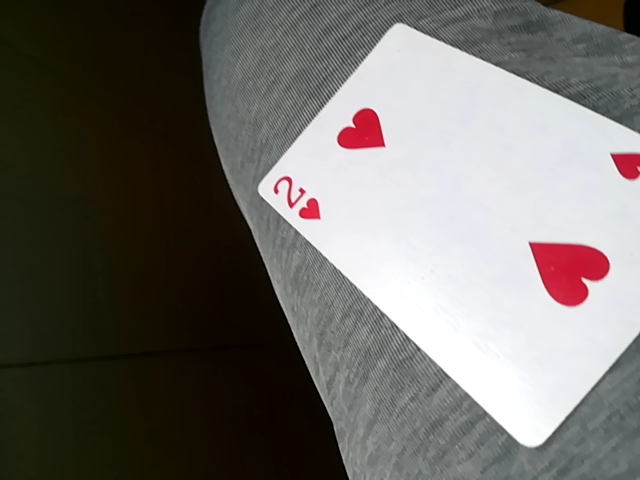hx 2: (230, 24, 637, 450)
